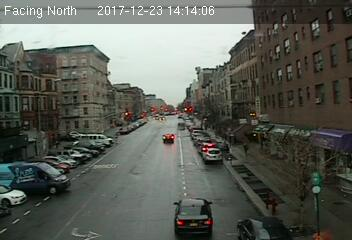car: (172, 195, 215, 236), (204, 147, 222, 161), (161, 132, 174, 144)
